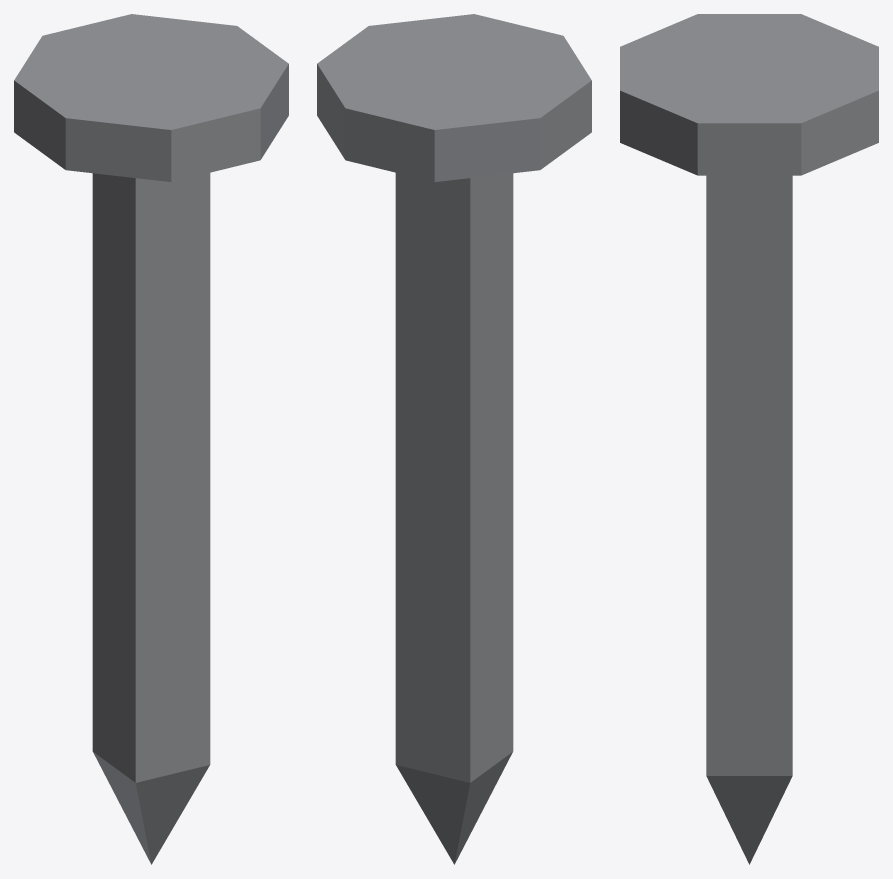
The model's file is SM_Item_Nail_03.fbx.
3 views of the same model, side by side, from view 1: azimuth 30°, elevation 25°; view 2: azimuth 150°, elevation 25°; view 3: azimuth 270°, elevation 25° (orthographic).
Parts seen in each view (by area): view 1: SM_Item_Nail_03; view 2: SM_Item_Nail_03; view 3: SM_Item_Nail_03.
Boxes of the visible parts, bbox=[...] form: SM_Item_Nail_03: bbox=[14, 14, 288, 864]; SM_Item_Nail_03: bbox=[317, 14, 591, 864]; SM_Item_Nail_03: bbox=[620, 14, 878, 864].
Bounding box in the file's own units: 3.68 × 12.51 × 3.68.
